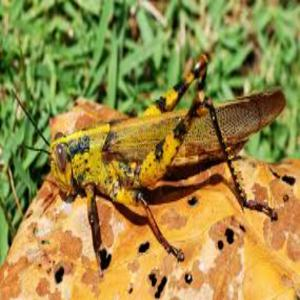locust: (15, 87, 300, 265)
